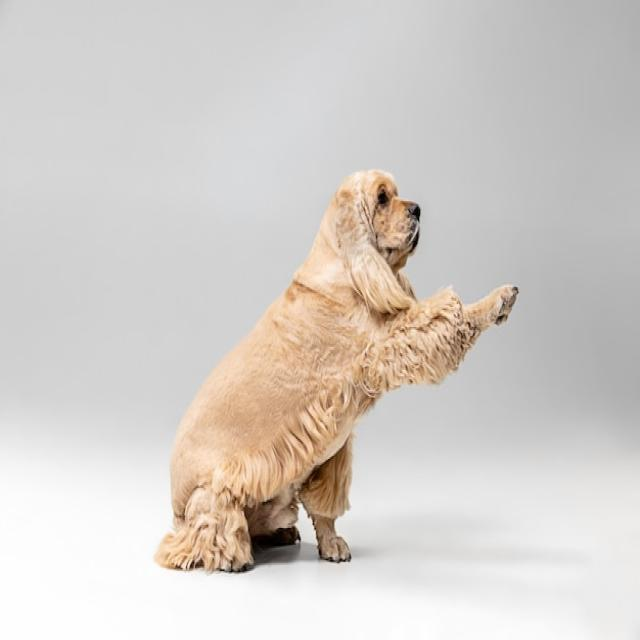Dog: (154, 167, 518, 574)
